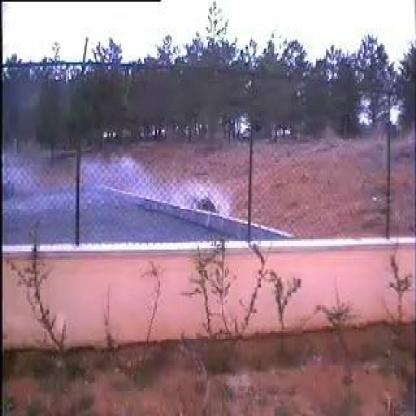-: (39, 152, 233, 241)
